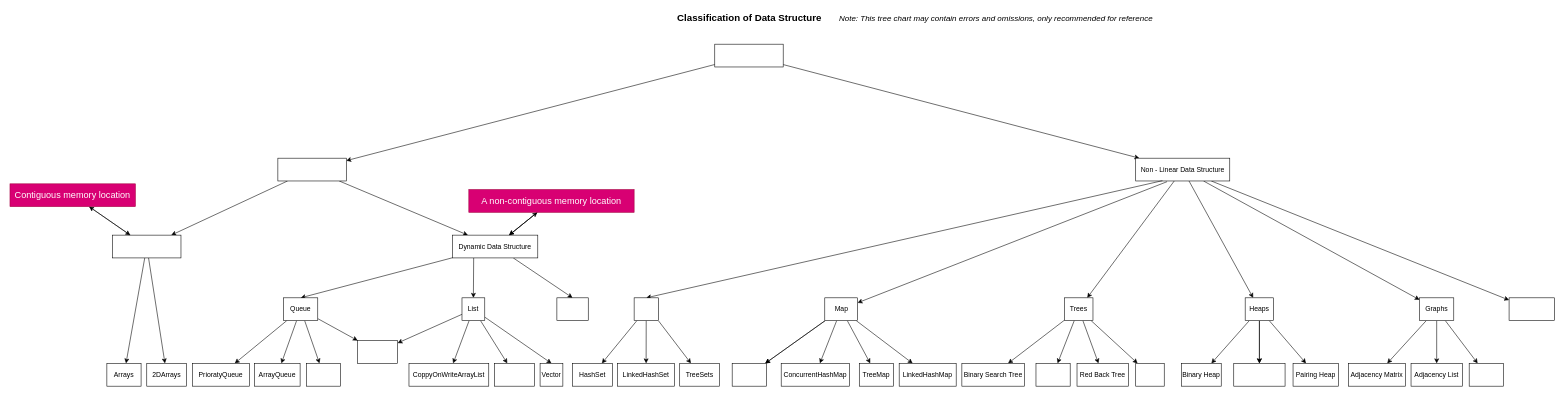
This 1565x396 diagram has some shape labels left out. Here are the shapes that lost their labels. From the top down, the box of each, then its label:
(714, 44, 783, 67): Data Structure
(277, 158, 346, 181): Linear Data Structure
(112, 235, 181, 258): Static Data Structure
(556, 297, 588, 321): Stack
(634, 297, 658, 321): Sets
(1509, 297, 1555, 321): Hash Tables
(357, 340, 398, 363): LinkedList
(306, 363, 341, 386): Deque
(494, 363, 534, 386): ArrayList
(732, 363, 766, 386): HashMap
(1035, 363, 1070, 386): AVL Tree
(1135, 363, 1164, 386): B Tree
(1233, 363, 1285, 386): Fibonacci Heap
(1469, 363, 1503, 386): Edge List
